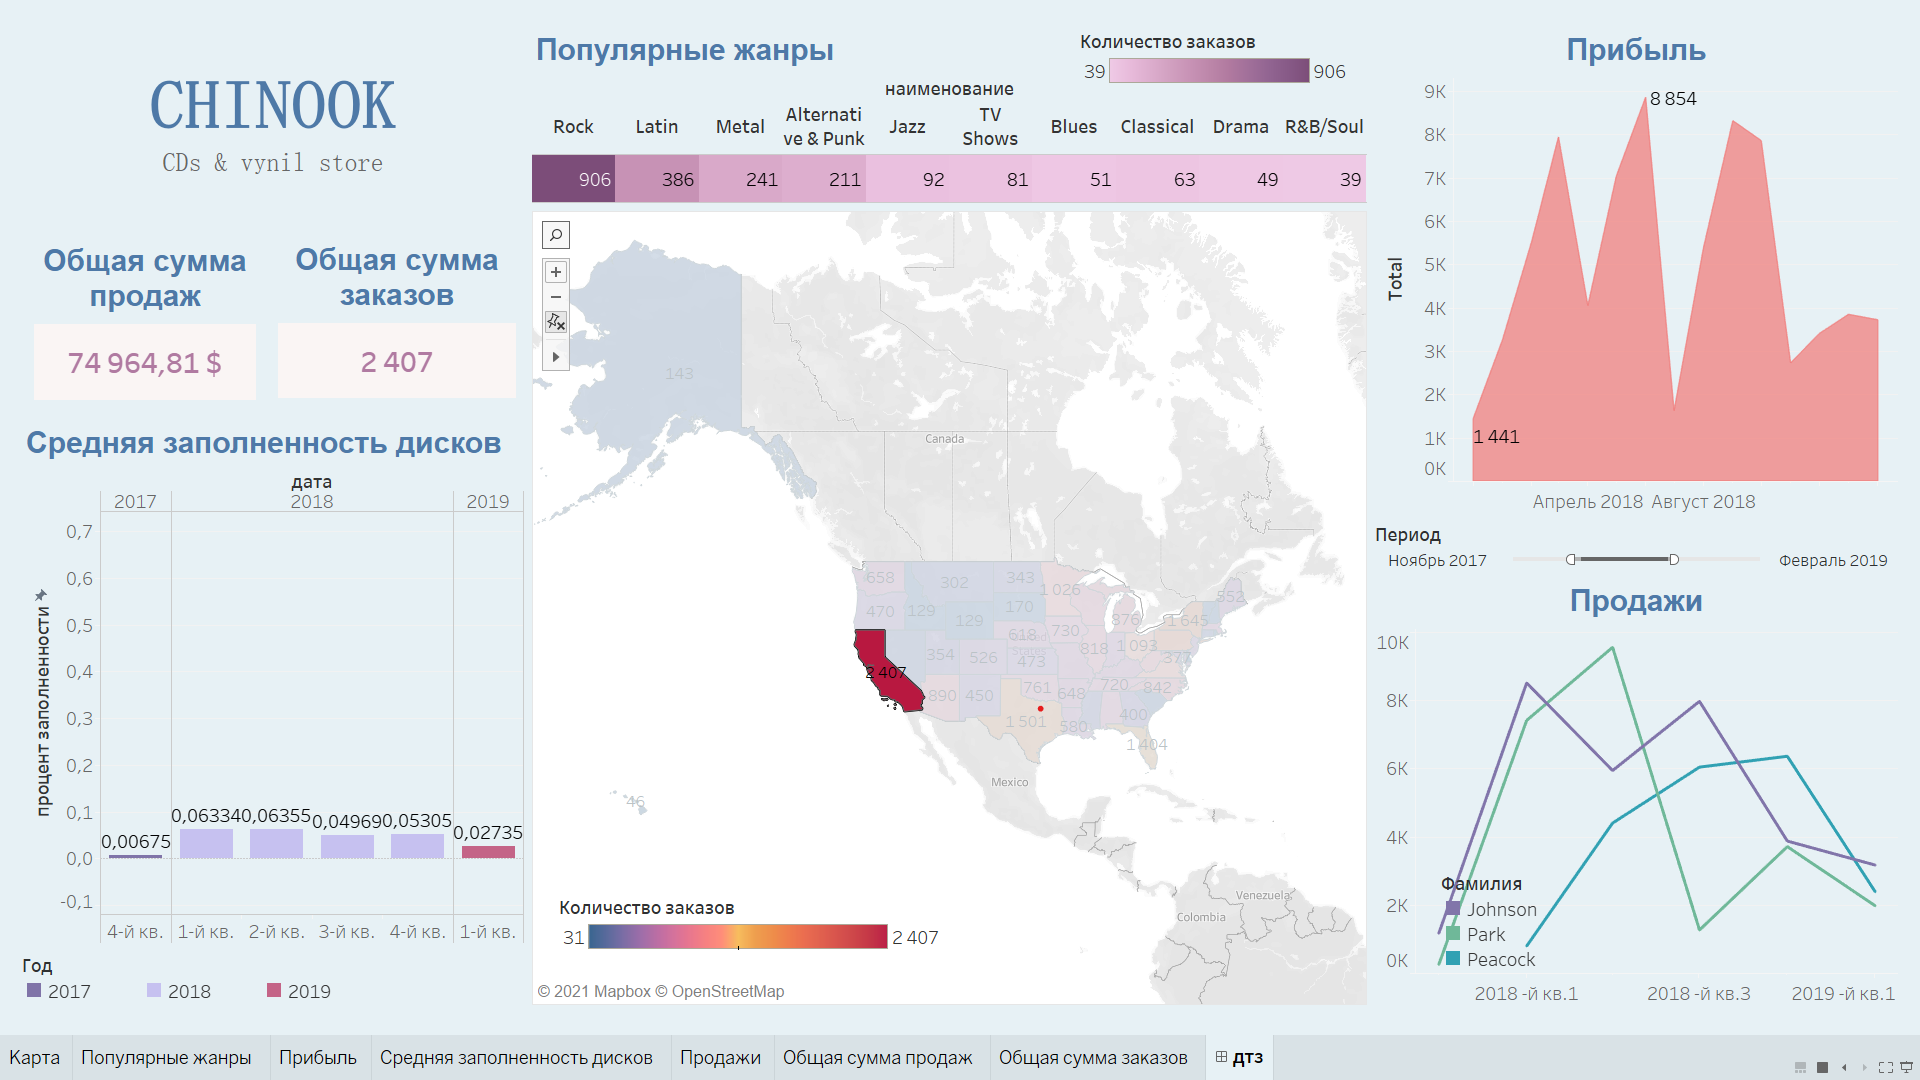

The dashboard page shown, as its layout file describes it:
{"tool":"tableau","page":{"name":"дтз","canvas":[1900,1000],"ordinal":0},"visuals":[{"type":"text","box":[8,8,510.7,196.5]},{"type":"worksheet","title":"Популярные жанры","mark":"Square","cols":["Name (Genre)"],"box":[518.7,8,842.3,182]},{"type":"worksheet","title":"Прибыль","mark":"Area","rows":["Total"],"cols":["InvoiceDate"],"box":[1361,8,531,492]},{"type":"legend","title":"Популярные жанры","param":"[federated.150ivkz07kv73f14hnvlx0c4kn3n].[cnt:InvoiceLineId:qk]","box":[1070,11,271,71]},{"type":"worksheet","title":"Карта","mark":"Multipolygon","box":[518.7,190,842.3,802]},{"type":"blank","box":[8,204.5,510.7,196.5]},{"type":"worksheet","title":"Общая сумма заказов","mark":"Automatic","box":[268,222,238,159]},{"type":"worksheet","title":"Общая сумма продаж","mark":"Automatic","box":[24,223,222,160]},{"type":"worksheet","title":"Средняя заполненность дисков","mark":"Bar","rows":["Calculation_1076078884691464200"],"cols":["InvoiceDate","InvoiceDate"],"box":[8,401,510.7,530]},{"type":"filter","title":"Прибыль","param":"[federated.150ivkz07kv73f14hnvlx0c4kn3n].[tmn:InvoiceDate:qk]","box":[1361,500,531,59]},{"type":"worksheet","title":"Продажи","mark":"Automatic","rows":["Total"],"cols":["InvoiceDate"],"box":[1361,559,531,433]},{"type":"legend","title":"Продажи","param":"[federated.150ivkz07kv73f14hnvlx0c4kn3n].[none:LastName (Employee):nk]","box":[1431,853,140,101]},{"type":"legend","title":"Карта","param":"[federated.150ivkz07kv73f14hnvlx0c4kn3n].[cnt:InvoiceId:qk]","box":[549,877,385,89]},{"type":"legend","title":"Средняя заполненность дисков","param":"[federated.150ivkz07kv73f14hnvlx0c4kn3n].[yr:InvoiceDate:ok]","box":[8,931,510.7,61]}]}

Visuals, with their boxes on the page's 1900x1000 design canvas (x1, y1, x2, y2). These are canvas units, not pixel positions in the 1920x1080 screenshot, which may show the page scaled, cropped or inside an application window:
text: {"x1": 8, "y1": 8, "x2": 519, "y2": 204}
"Популярные жанры" worksheet (Square marks): {"x1": 519, "y1": 8, "x2": 1361, "y2": 190}
"Прибыль" worksheet (Area marks): {"x1": 1361, "y1": 8, "x2": 1892, "y2": 500}
"Популярные жанры" legend: {"x1": 1070, "y1": 11, "x2": 1341, "y2": 82}
"Карта" worksheet (Multipolygon marks): {"x1": 519, "y1": 190, "x2": 1361, "y2": 992}
blank: {"x1": 8, "y1": 204, "x2": 519, "y2": 401}
"Общая сумма заказов" worksheet: {"x1": 268, "y1": 222, "x2": 506, "y2": 381}
"Общая сумма продаж" worksheet: {"x1": 24, "y1": 223, "x2": 246, "y2": 383}
"Средняя заполненность дисков" worksheet (Bar marks): {"x1": 8, "y1": 401, "x2": 519, "y2": 931}
"Прибыль" filter: {"x1": 1361, "y1": 500, "x2": 1892, "y2": 559}
"Продажи" worksheet: {"x1": 1361, "y1": 559, "x2": 1892, "y2": 992}
"Продажи" legend: {"x1": 1431, "y1": 853, "x2": 1571, "y2": 954}
"Карта" legend: {"x1": 549, "y1": 877, "x2": 934, "y2": 966}
"Средняя заполненность дисков" legend: {"x1": 8, "y1": 931, "x2": 519, "y2": 992}
